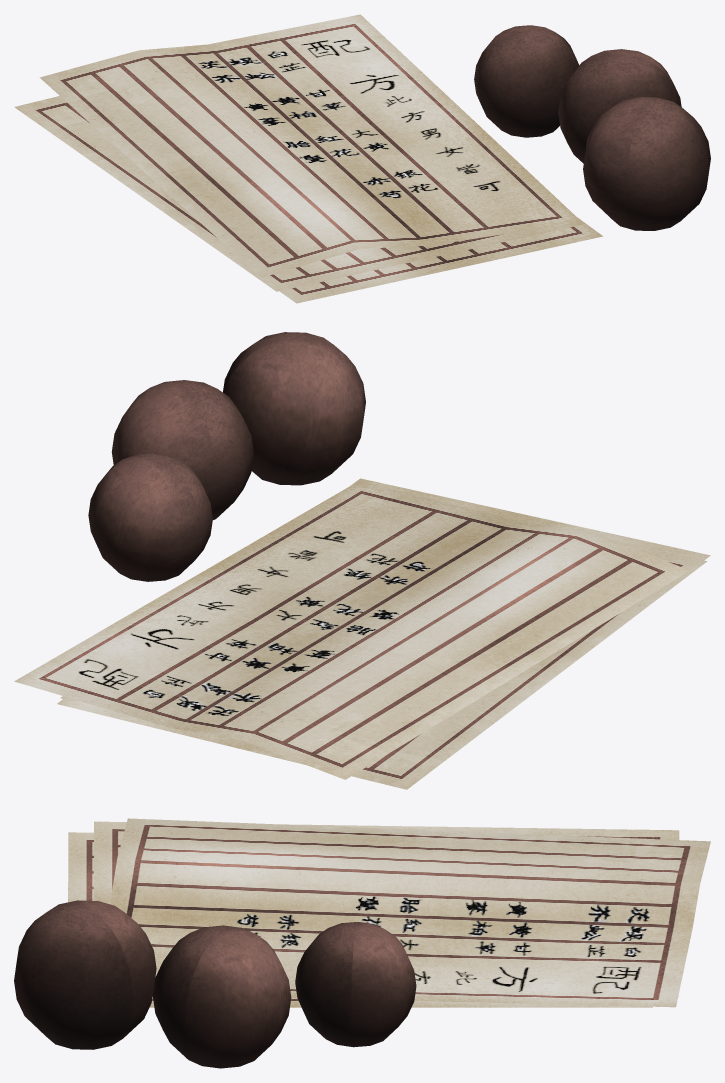
File: dihuangwanpeifang.FBX
3 views of the same model, one above another, from view 1: azimuth 30°, elevation 25°; view 2: azimuth 150°, elevation 25°; view 3: azimuth 270°, elevation 25° (orthographic). The views are drawn at different scales.
Visible parts, largest first — view 1: dihuangwanpeifang; view 2: dihuangwanpeifang; view 3: dihuangwanpeifang.
Boxes of the visible parts, bbox=[...] form: dihuangwanpeifang: bbox=[14, 14, 710, 303]; dihuangwanpeifang: bbox=[14, 332, 710, 789]; dihuangwanpeifang: bbox=[14, 818, 710, 1068].
Bounding box in the file's own units: 23.99 × 6.21 × 28.55.
Materials: 1 (1 with a texture image).
